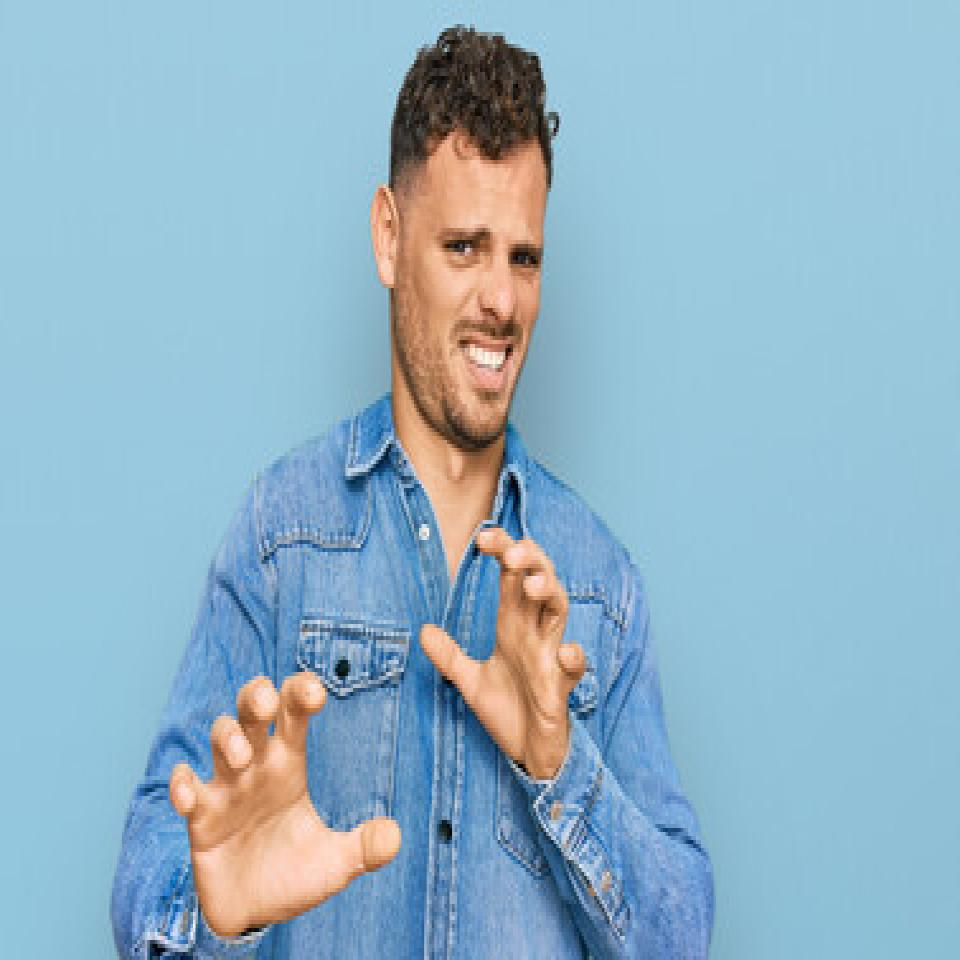Disgust: (391, 123, 547, 451)
